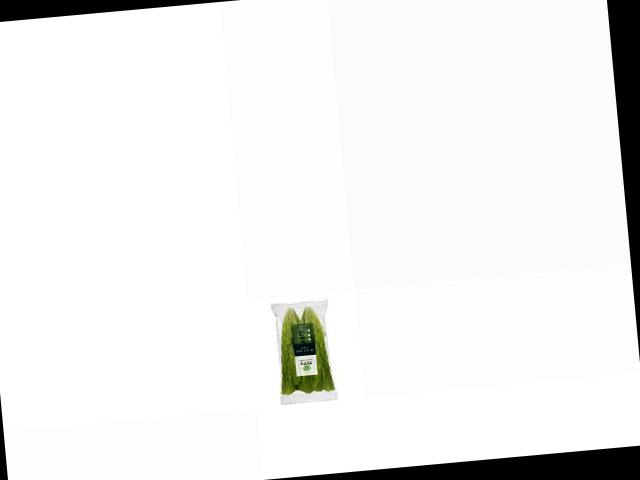lettuce: (267, 303, 335, 399)
